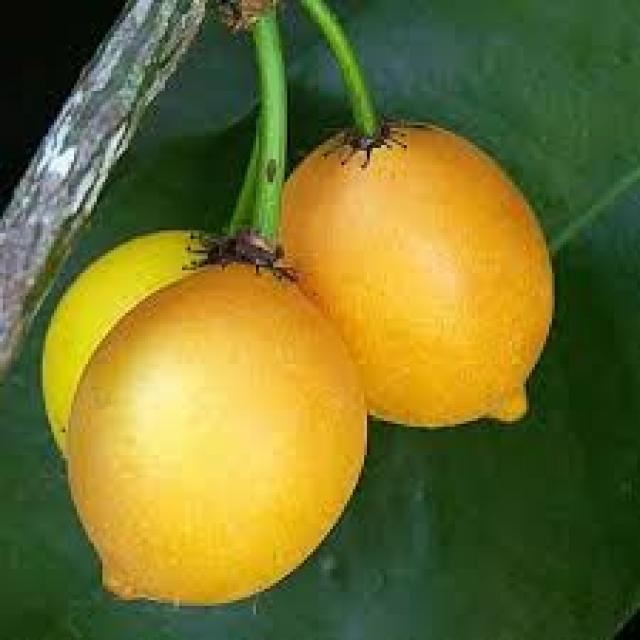organic waste: (60, 250, 367, 609), (270, 114, 552, 429), (34, 228, 248, 480)
